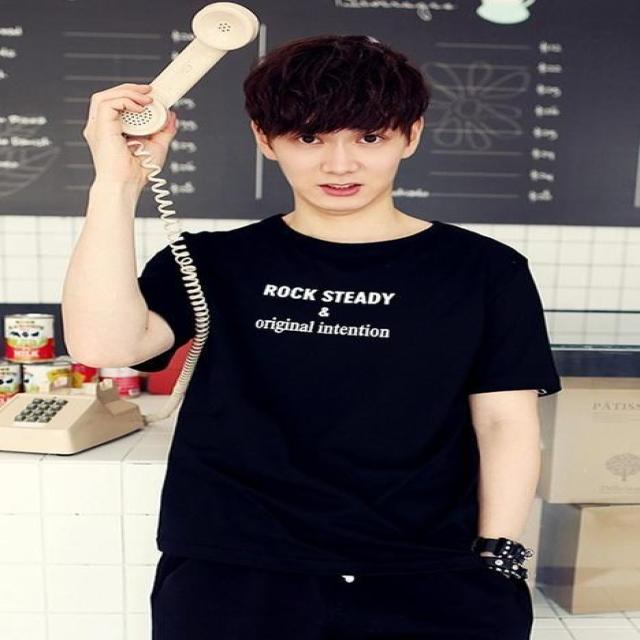short-sleeve-top: (149, 189, 592, 576)
